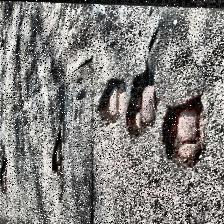pothole: (159, 92, 207, 168), (122, 60, 160, 140), (94, 75, 128, 125), (48, 122, 65, 176), (0, 157, 10, 195)
